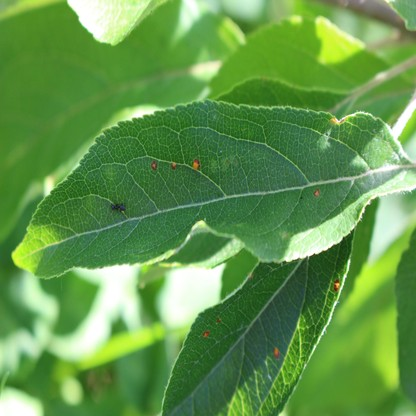rust: (333, 278, 339, 293), (272, 345, 278, 357), (192, 158, 199, 168), (314, 187, 320, 198), (150, 161, 157, 170), (170, 161, 176, 169), (202, 330, 208, 337), (216, 315, 221, 322)
